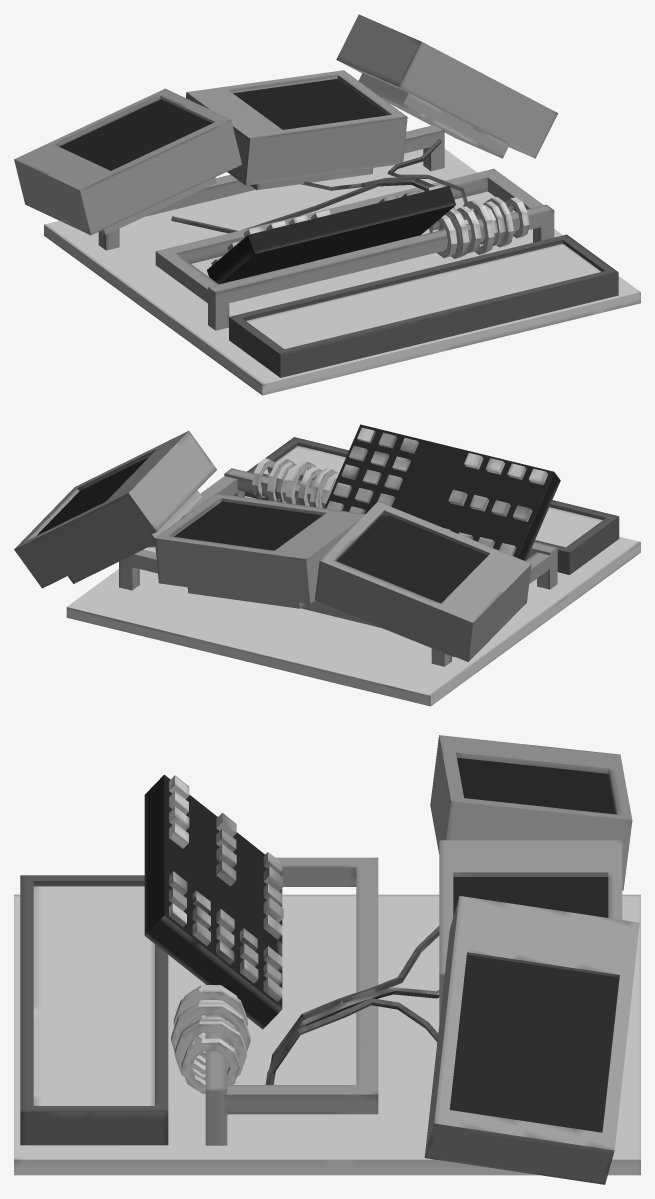
File: Screens_A.fbx
3 renders of one model, top to bottom at view 1: azimuth 30°, elevation 25°; view 2: azimuth 150°, elevation 25°; view 3: azimuth 270°, elevation 25°, orthographic. The views are drawn at different scales.
Parts seen in each view (by area): view 1: Screens_A; view 2: Screens_A; view 3: Screens_A.
Part boxes in pixels (<box>): Screens_A: <box>14,14,640,395</box>; Screens_A: <box>14,424,640,706</box>; Screens_A: <box>14,735,640,1184</box>.
Bounding box in the file's own units: 253 × 82.64 × 200.
